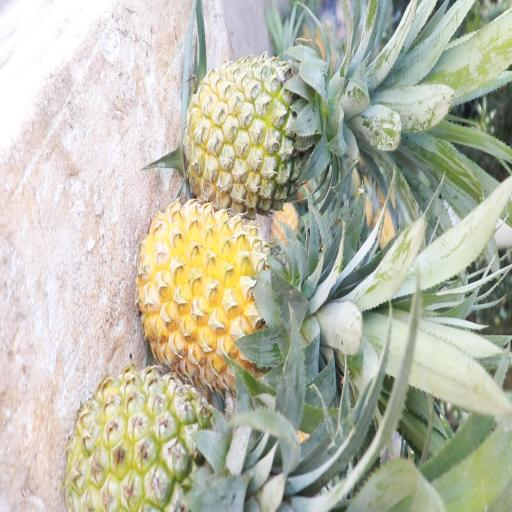------------------------------: (69, 374, 261, 512), (186, 54, 344, 201)
Pineapple - v8 v1: (137, 208, 318, 382)
